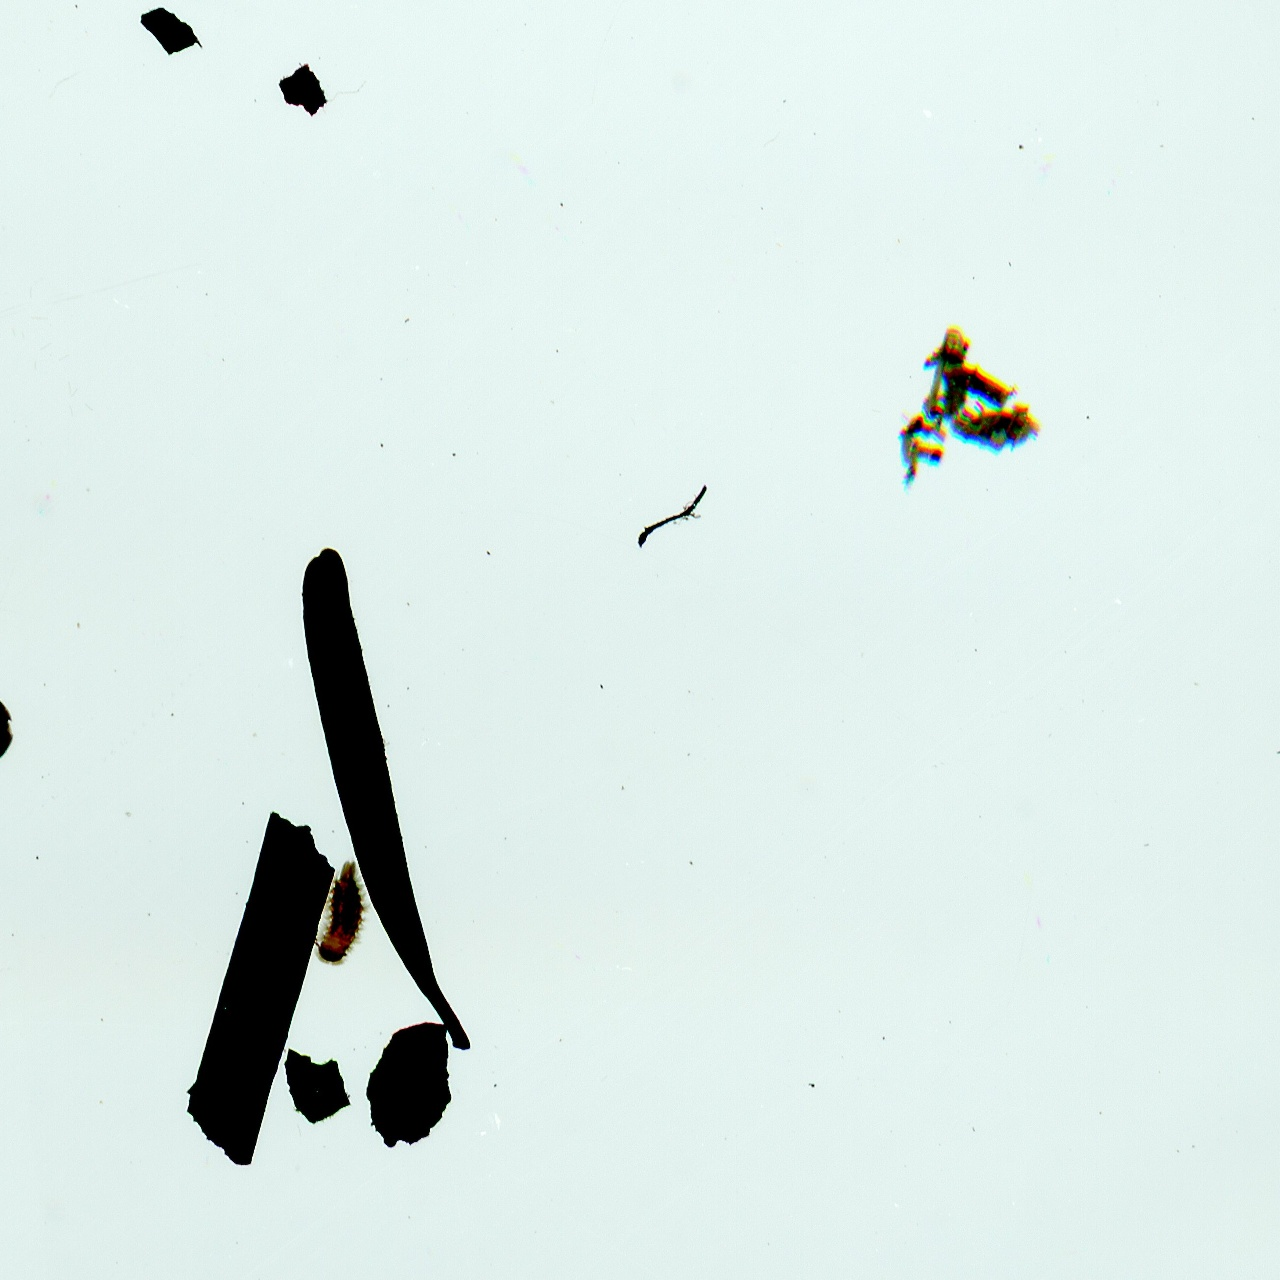arthropod: (306, 849, 388, 980), (0, 670, 34, 799)
